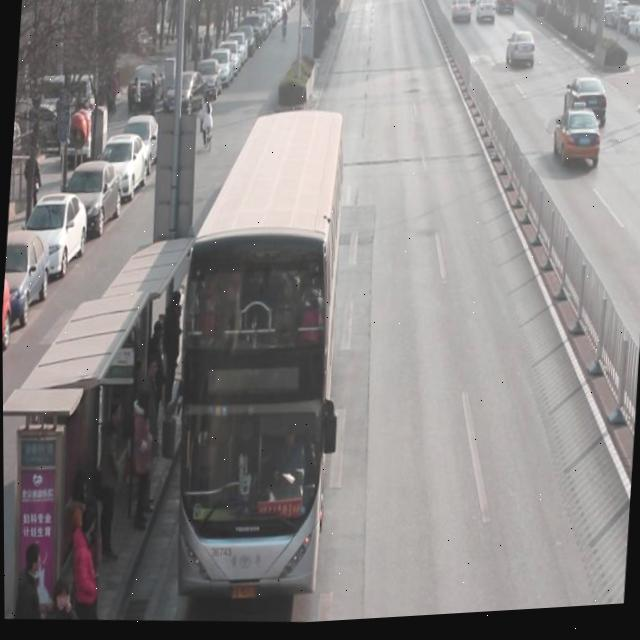car: (551, 105, 604, 179), (563, 79, 609, 140), (504, 35, 537, 77), (475, 0, 496, 31), (451, 0, 471, 29), (494, 0, 516, 22)
truck: (460, 0, 478, 9)
van: (161, 103, 350, 608)
